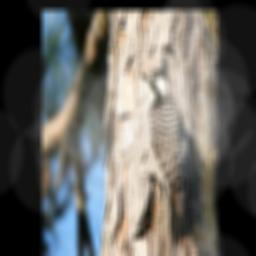Woodpecker: (139, 68, 189, 256)
